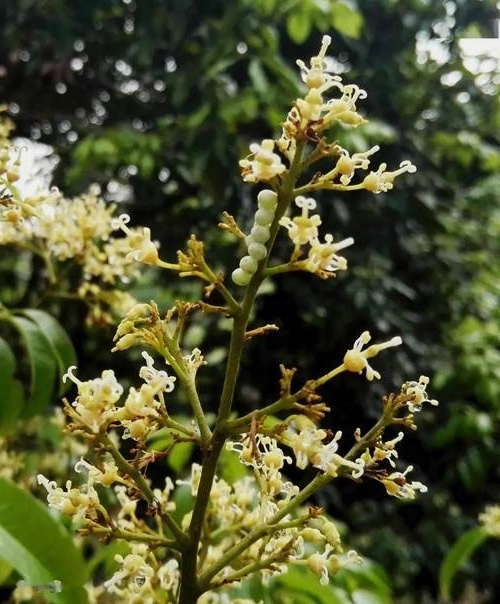Stink_Bug: (208, 158, 335, 303)
